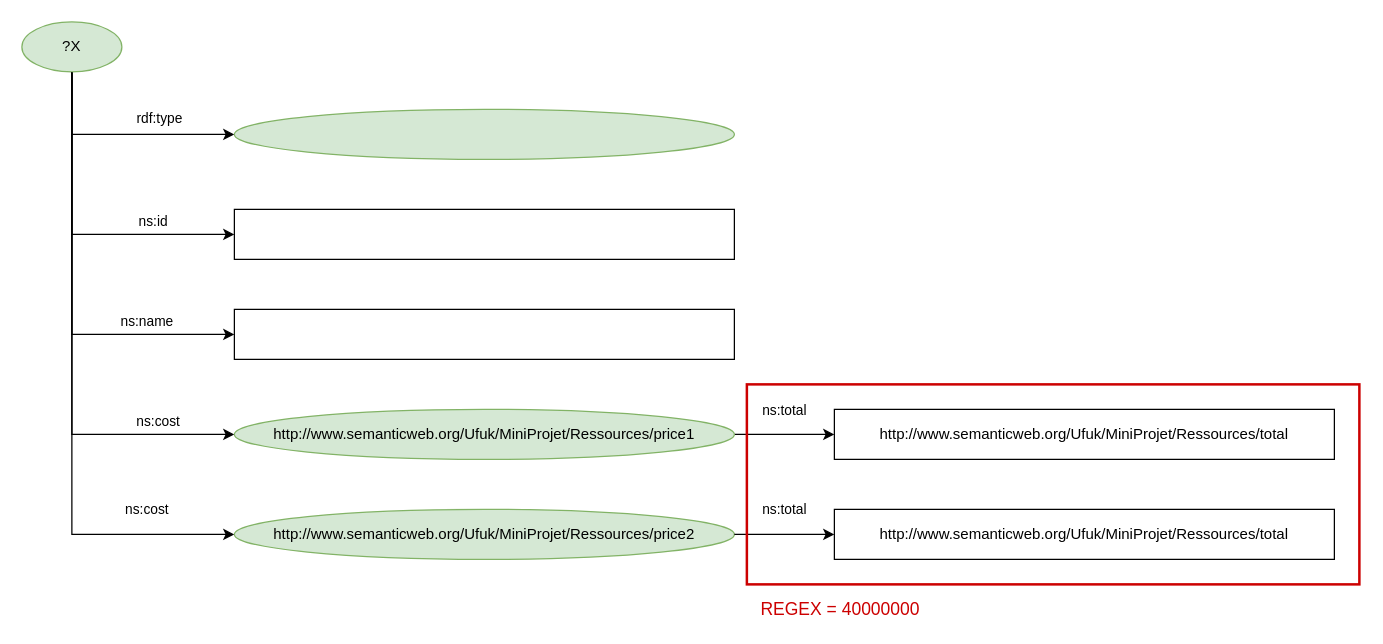
This 1383x644 diagram has some shape labels left out. Each missing label, with the centre of its shape:
http://www.semanticweb.org/Ufuk/MiniProjet/Ressources/id: the point at 483,233
http://www.semanticweb.org/Ufuk/MiniProjet/Ressources/name: the point at 483,333
http://www.semanticweb.org/Ufuk/MiniProjet/Ressources/Project: the point at 483,133
